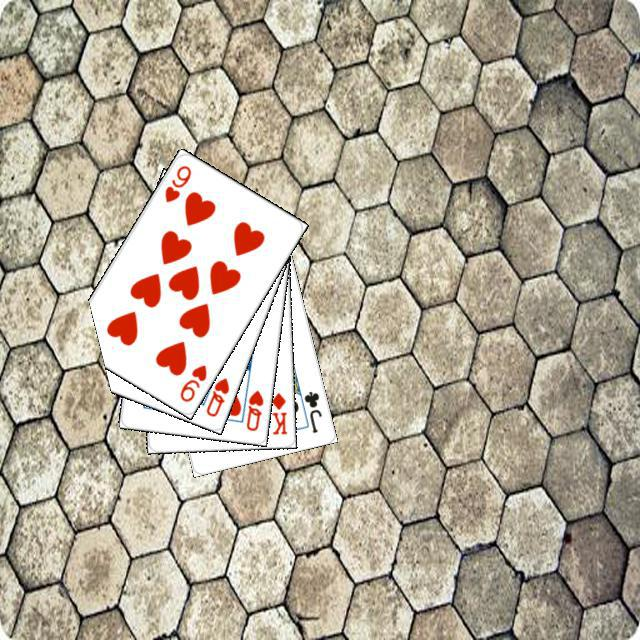9h: (175, 359, 209, 404), (160, 160, 193, 204)
Jc: (299, 386, 324, 435)
Kd: (267, 388, 288, 436)
Qh: (201, 372, 231, 418), (241, 385, 265, 433)
